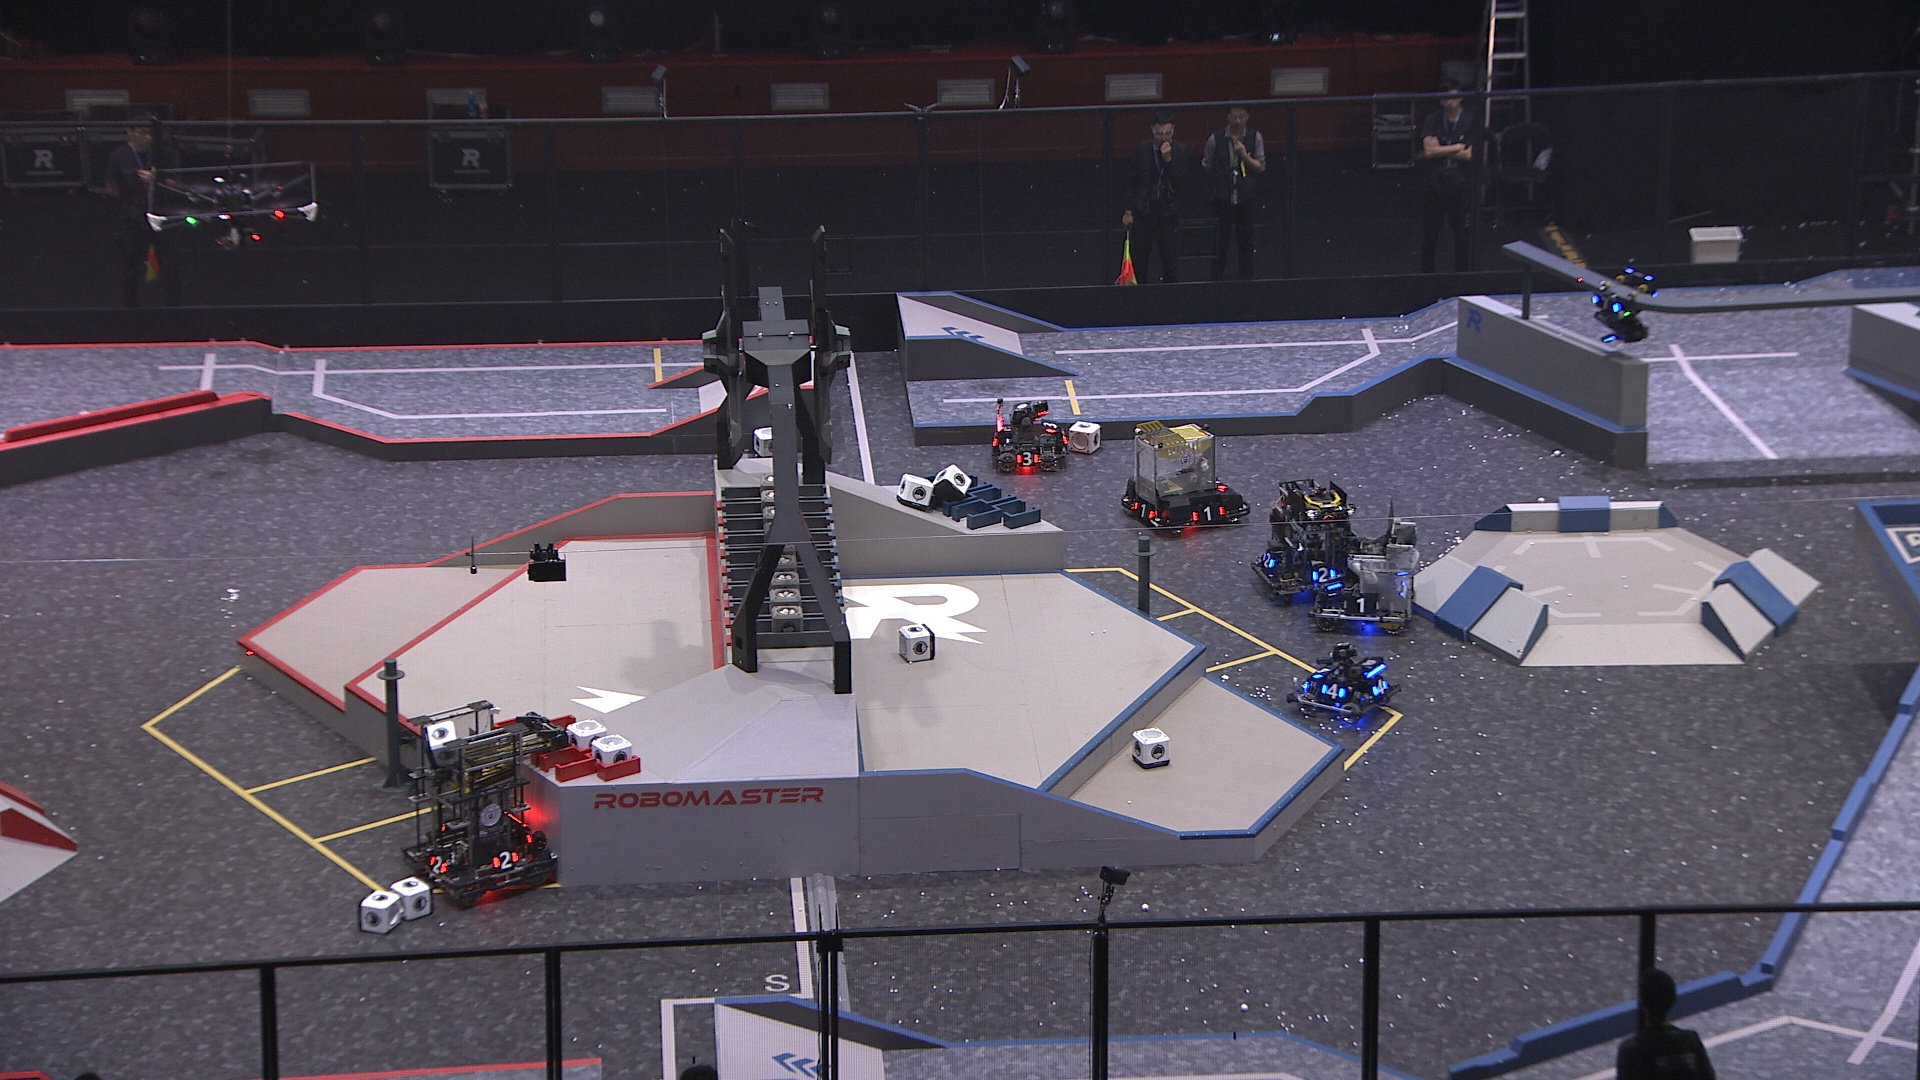armor: (1340, 597, 1382, 615), (1191, 504, 1225, 522), (1590, 295, 1621, 315), (1129, 498, 1154, 522), (491, 851, 520, 869), (1309, 564, 1337, 583), (425, 855, 447, 876), (1015, 451, 1040, 467), (1319, 684, 1344, 699), (1373, 678, 1390, 699), (1211, 476, 1230, 493), (1313, 665, 1333, 680), (1040, 418, 1058, 434), (1263, 551, 1276, 571), (988, 431, 1000, 448)
car: (400, 703, 560, 907), (1120, 415, 1253, 533), (1249, 480, 1361, 600), (1307, 522, 1424, 636), (1287, 641, 1400, 731), (986, 392, 1065, 477)
watcher: (1586, 266, 1662, 344)
